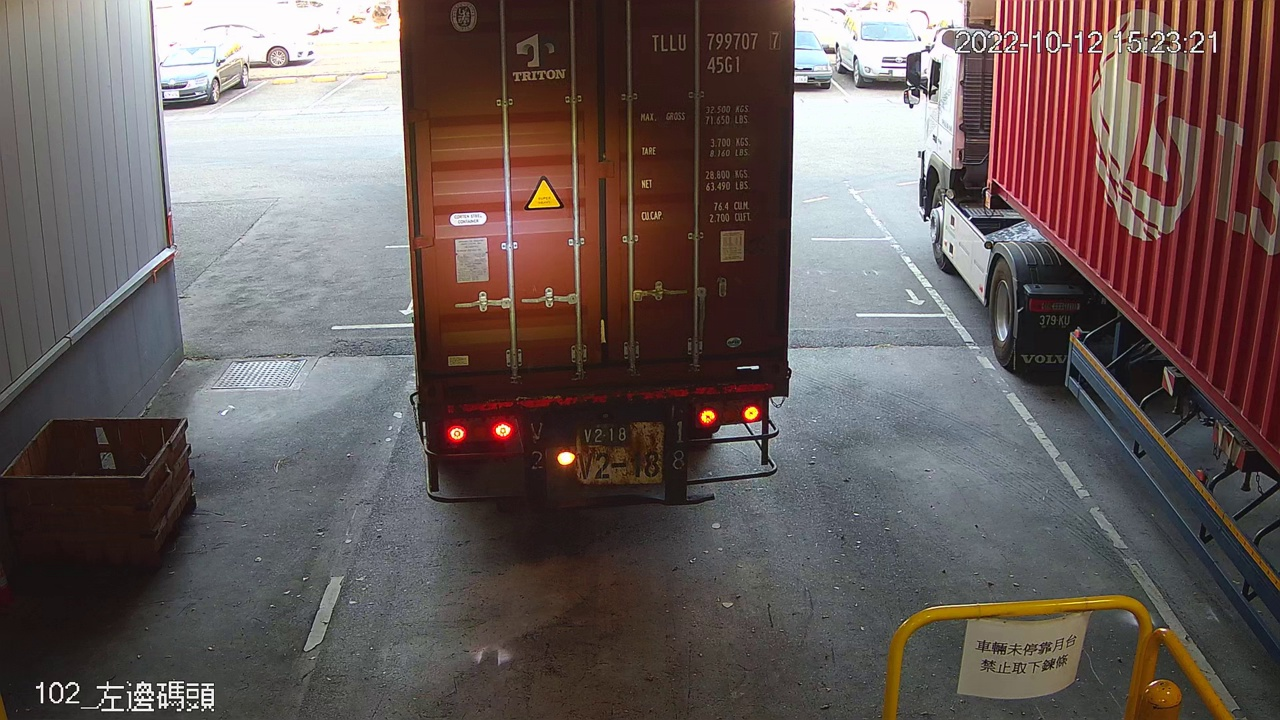container: (648, 27, 789, 78)
